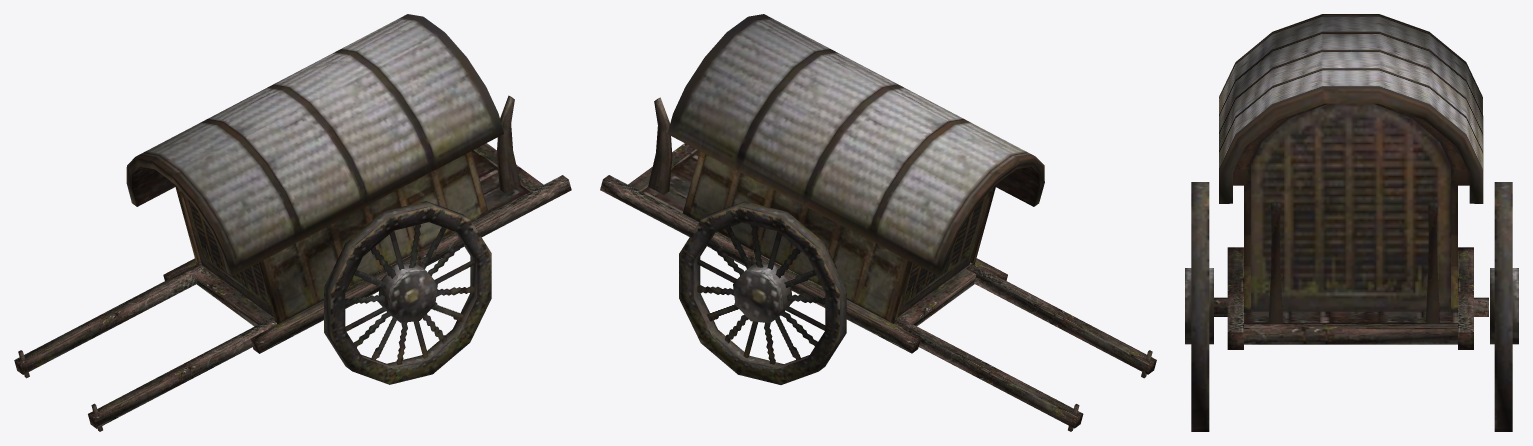
The model's file is cj_graveyard_wagon02.glb.
3 views of the same model, side by side, from view 1: azimuth 30°, elevation 25°; view 2: azimuth 150°, elevation 25°; view 3: azimuth 270°, elevation 25° (orthographic). The views are drawn at different scales.
Visible parts, largest first — view 1: cj_graveyard_wagon02 (×2); view 2: cj_graveyard_wagon02 (×2); view 3: cj_graveyard_wagon02.
Part boxes in pixels (left/top/right/bottom): cj_graveyard_wagon02 (×2): left=14, top=14, right=571, bottom=431; cj_graveyard_wagon02 (×2): left=600, top=14, right=1156, bottom=431; cj_graveyard_wagon02: left=1185, top=14, right=1518, bottom=431.
Size of the model in its own units: 6.34 by 3.73 by 2.95.
Materials: 2 (2 with a texture image).
